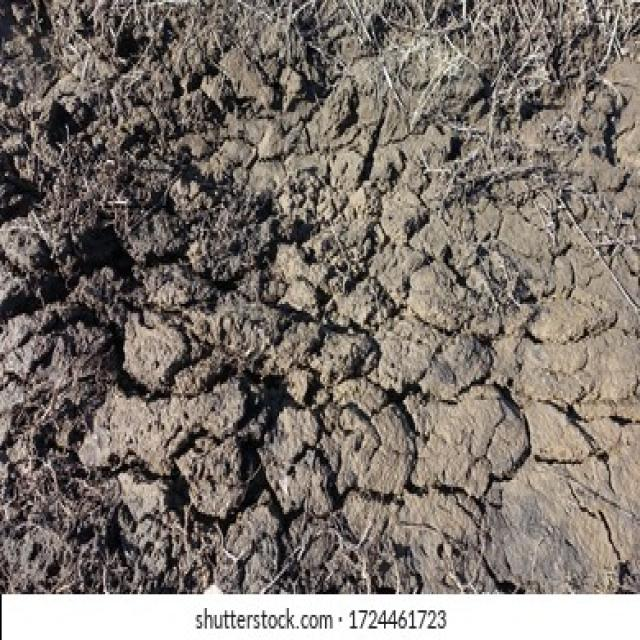Clay Soil: (52, 54, 589, 520)
